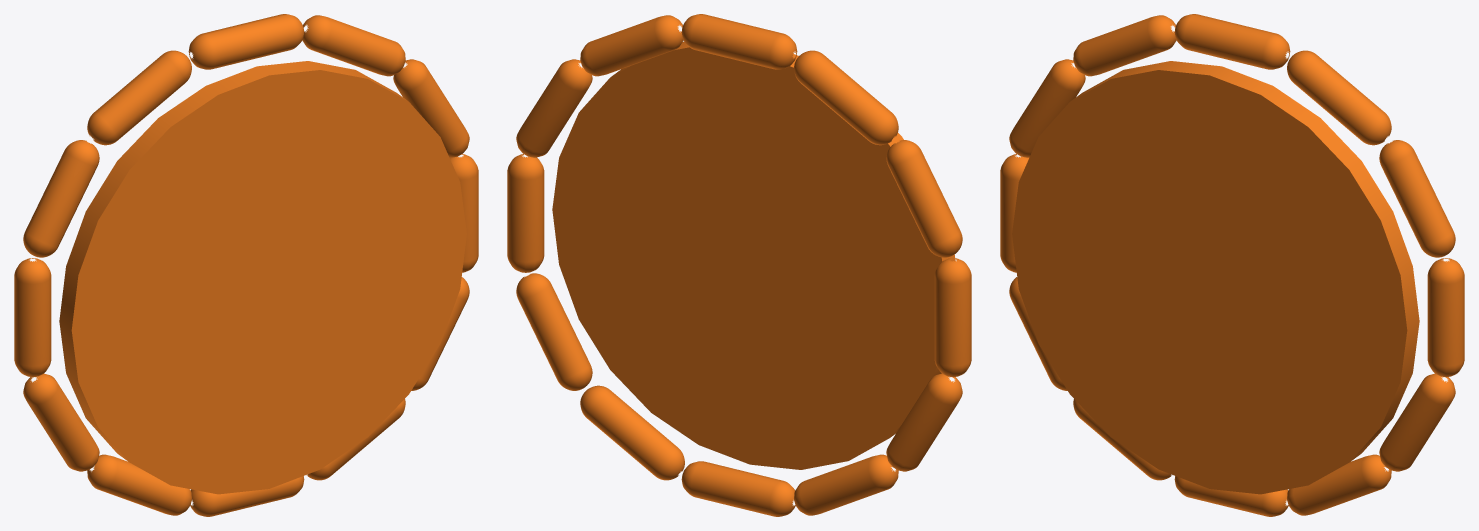
3 views of the same model, side by side, from view 1: azimuth 30°, elevation 25°; view 2: azimuth 150°, elevation 25°; view 3: azimuth 330°, elevation 25° (orthographic).
Visible parts, largest first — view 1: gripper_frame; view 2: gripper_frame; view 3: gripper_frame.
Part boxes in pixels (x1,y1,x2,y2): gripper_frame: (14,14,478,516); gripper_frame: (507,14,971,516); gripper_frame: (1000,14,1464,516).
Bounding box in the file's own units: 0.043 × 0.043 × 0.0052.
